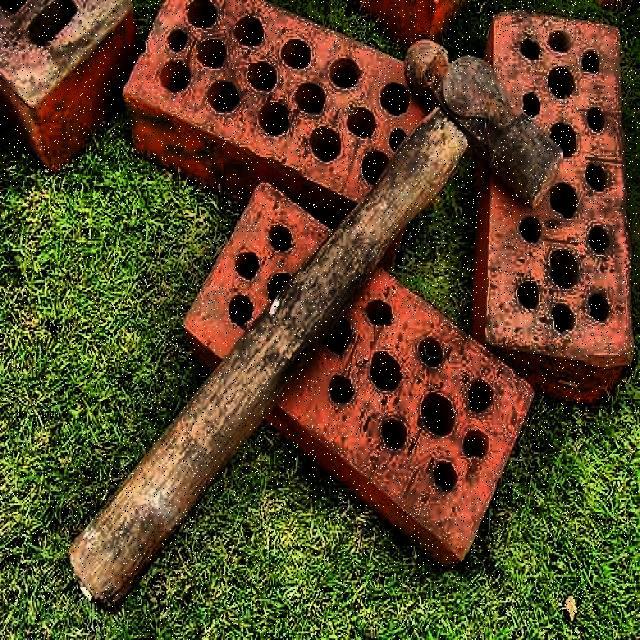hammer: (75, 41, 565, 607)
